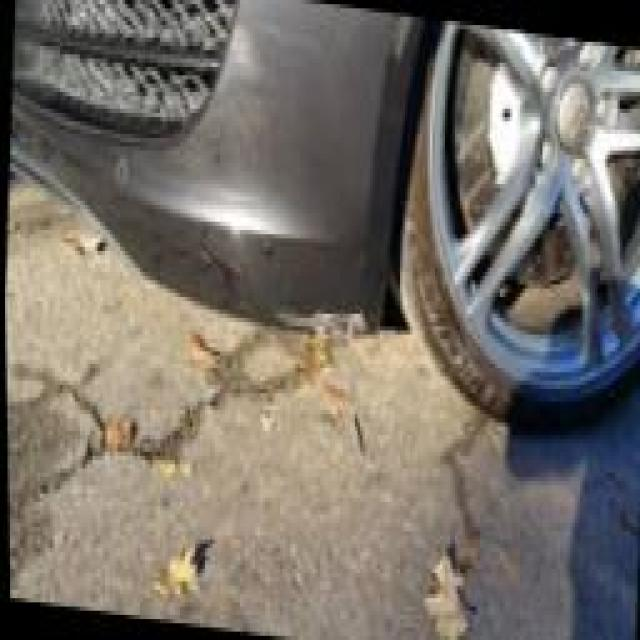Bumper: (75, 166, 390, 391)
